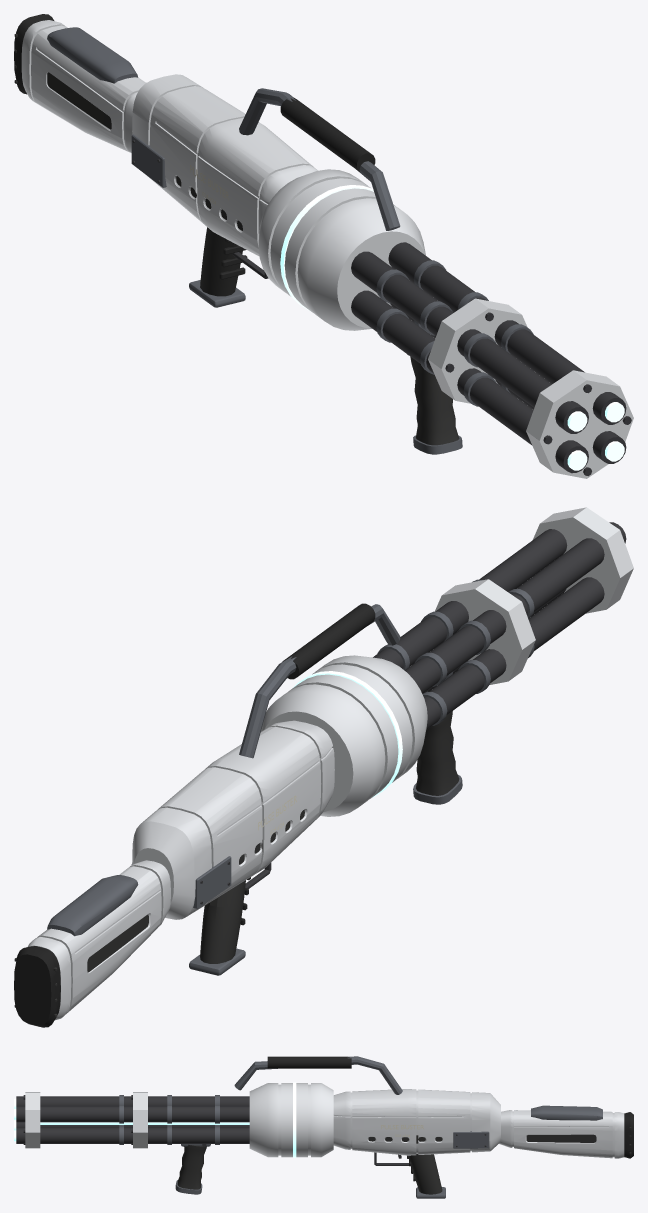
File: pulsebuster.glb
The picture shows the model from 3 angles, top to bottom: view 1: azimuth 30°, elevation 25°; view 2: azimuth 150°, elevation 25°; view 3: azimuth 270°, elevation 25°; orthographic projection. The views are drawn at different scales.
Visible parts, largest first — view 1: Body; view 2: Body; view 3: Body.
Boxes of the visible parts, x1,y1,x2,y2 form: Body: (14,14,633,478); Body: (14,507,633,1027); Body: (14,1056,633,1198).
Size of the model in its own units: 0.1264 by 0.2548 by 1.04.
